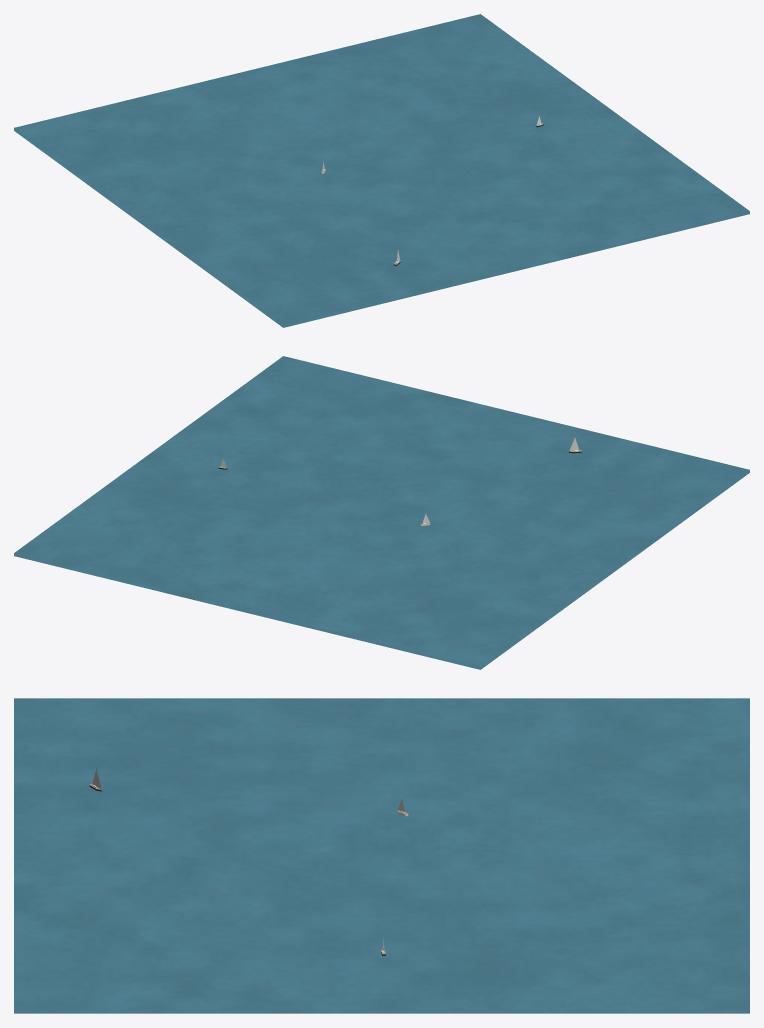
3 renders of one model, top to bottom at view 1: azimuth 30°, elevation 25°; view 2: azimuth 150°, elevation 25°; view 3: azimuth 270°, elevation 25°, orthographic. The views are drawn at different scales.
Visible parts, largest first — view 1: terrain; view 2: terrain; view 3: terrain.
Boxes of the visible parts, box(x1,y1,x2,y2) form: terrain: box(14, 14, 749, 327); terrain: box(14, 356, 749, 669); terrain: box(14, 698, 749, 1013).
Bounding box in the file's own units: 500 × 24.31 × 500.
Materials: 2 (1 with a texture image).
